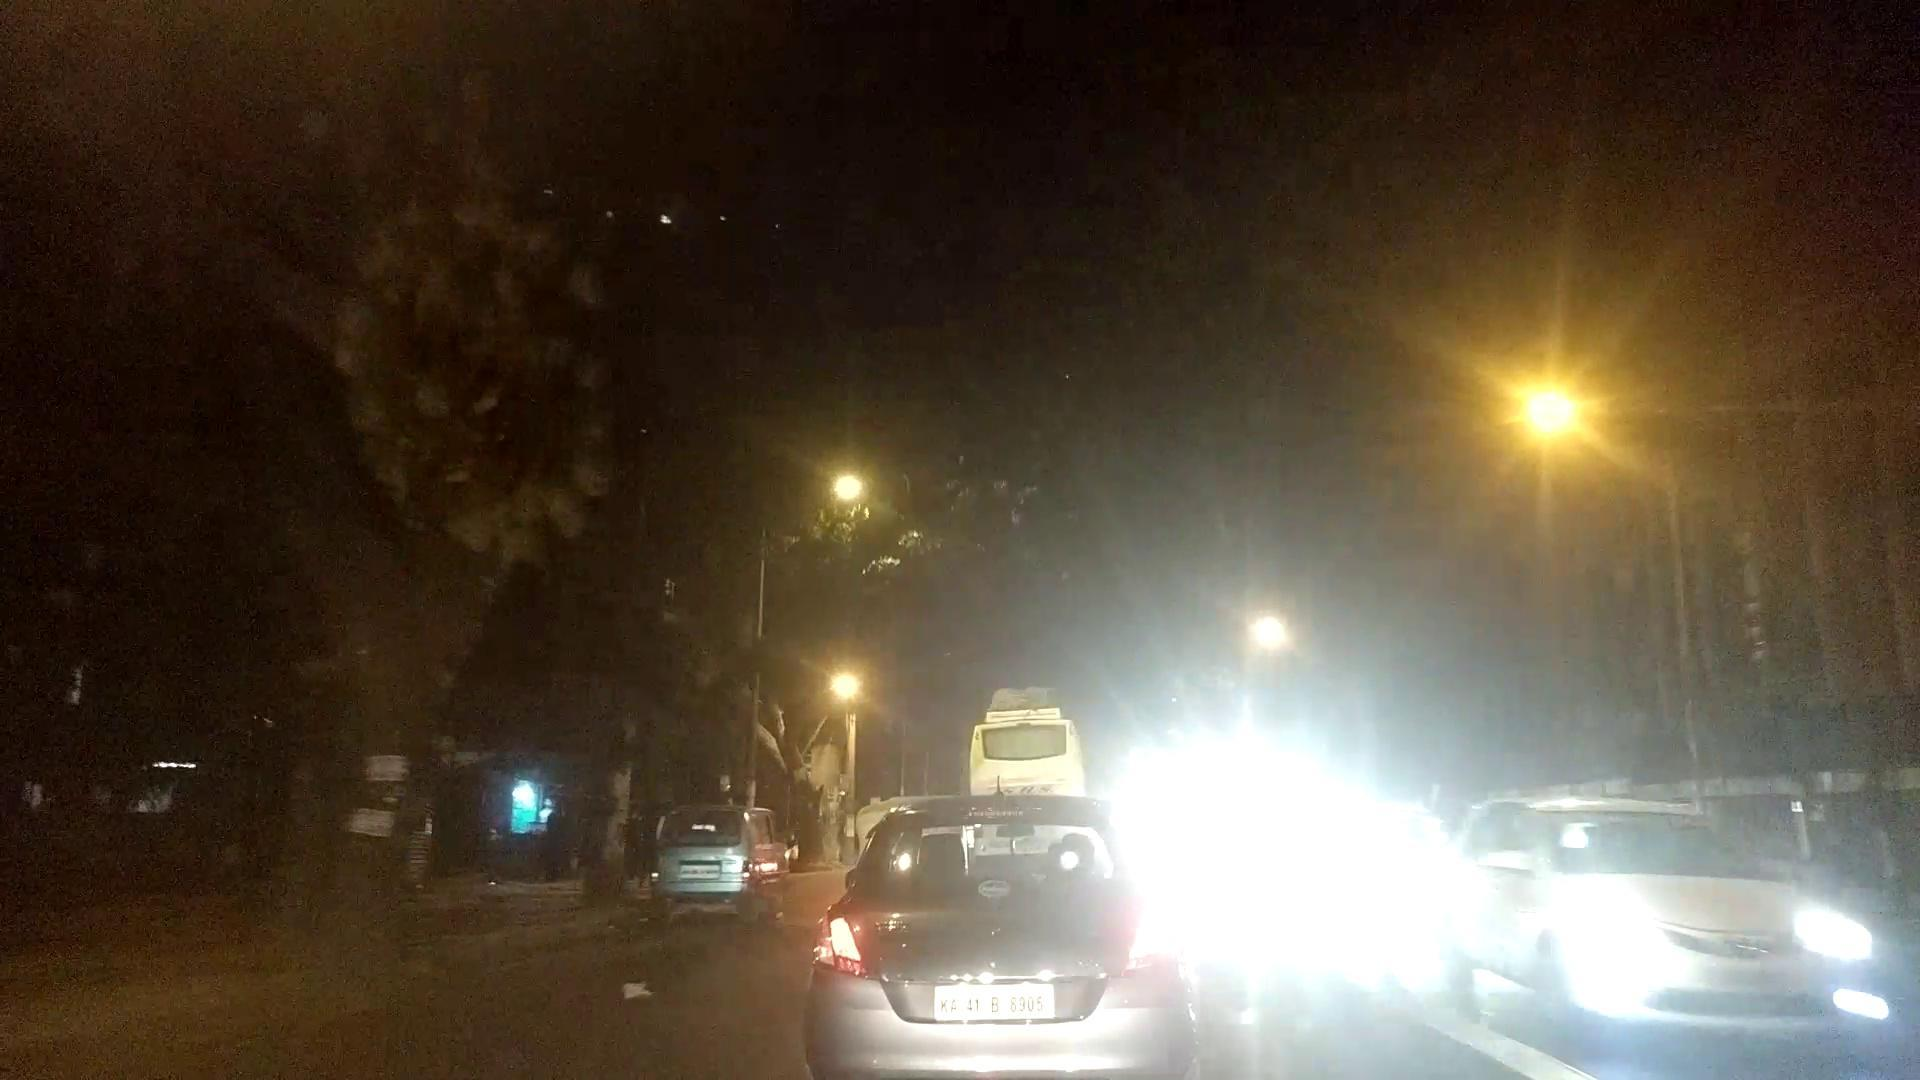on: (1320, 282, 1679, 587)
